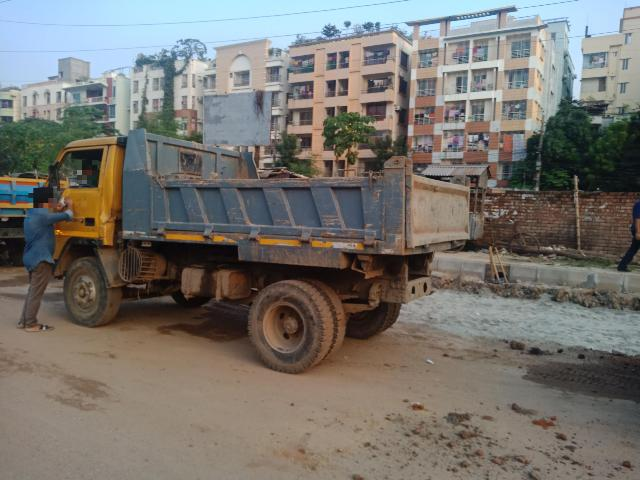truck: (48, 120, 476, 391)
